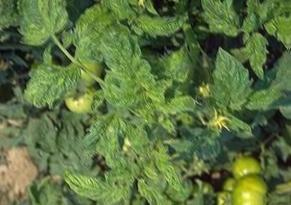Tomato leaf yellow virus: (99, 24, 153, 97), (205, 43, 255, 120), (19, 57, 83, 112), (148, 43, 202, 104), (9, 3, 71, 49), (129, 4, 192, 45), (60, 167, 125, 203), (200, 0, 243, 39)
